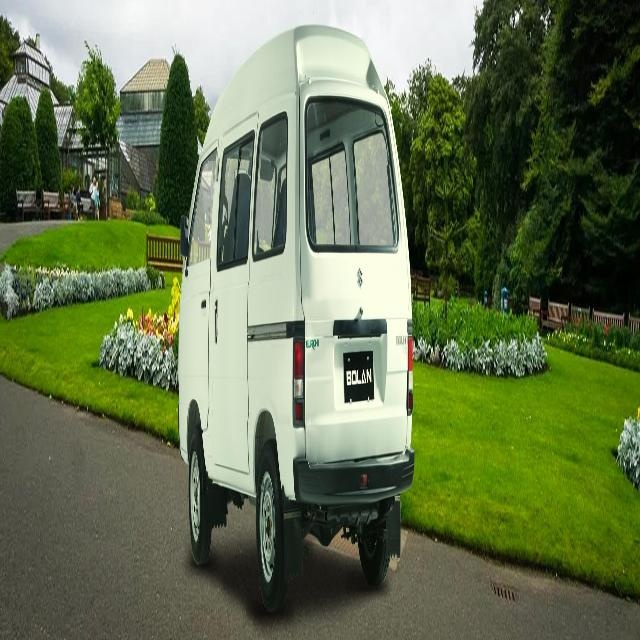Van: (175, 21, 418, 603)
